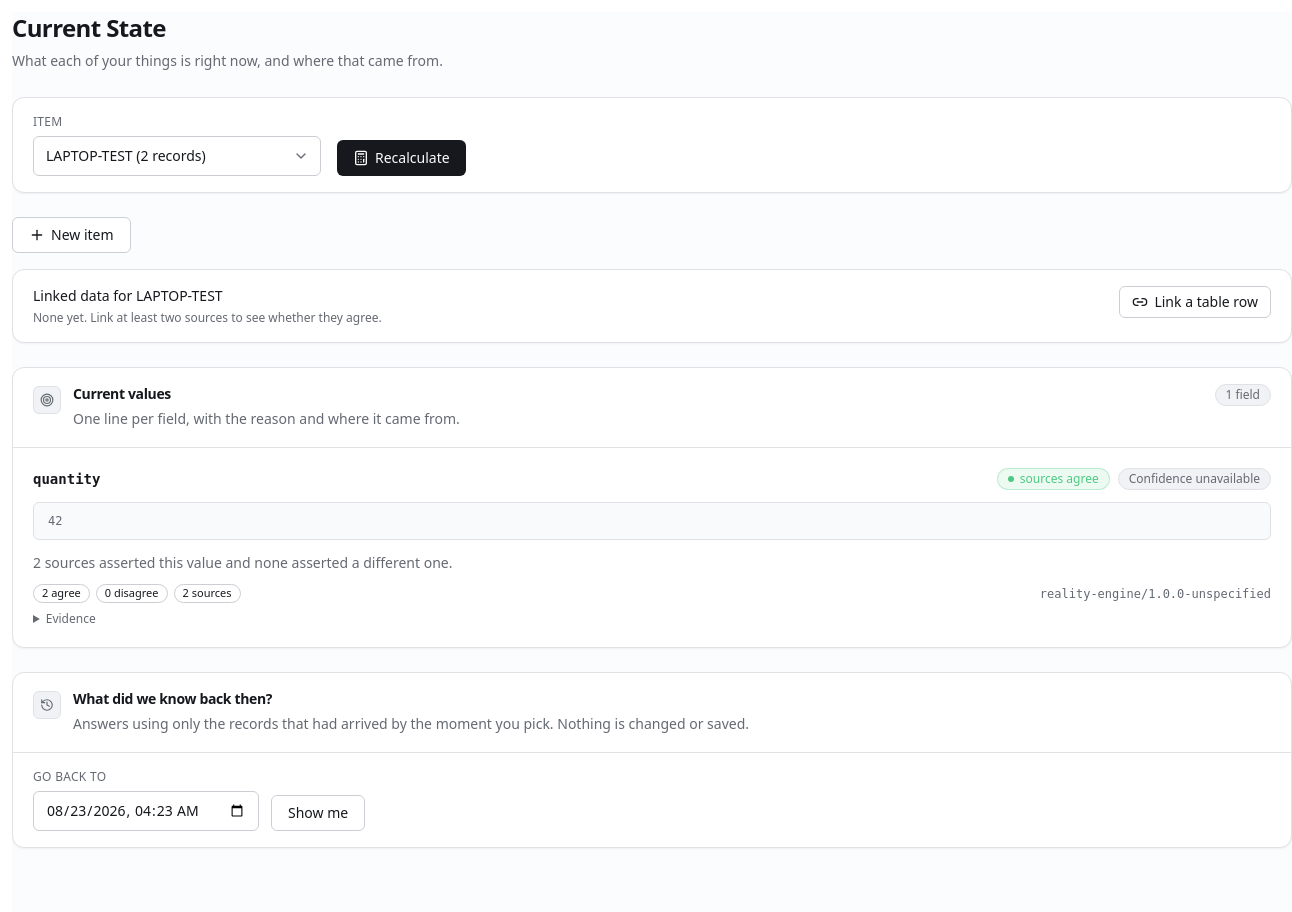
Test case: Entity setup › says what to do when a source has nothing to map yet
This screenshot has width=1292, height=912.
Expected: the dropdown labelled "Item" is shown, left=33, top=136, right=321, bottom=176
Click the button "Link a table row".
click(1195, 302)  # box left=1119, top=286, right=1271, bottom=318
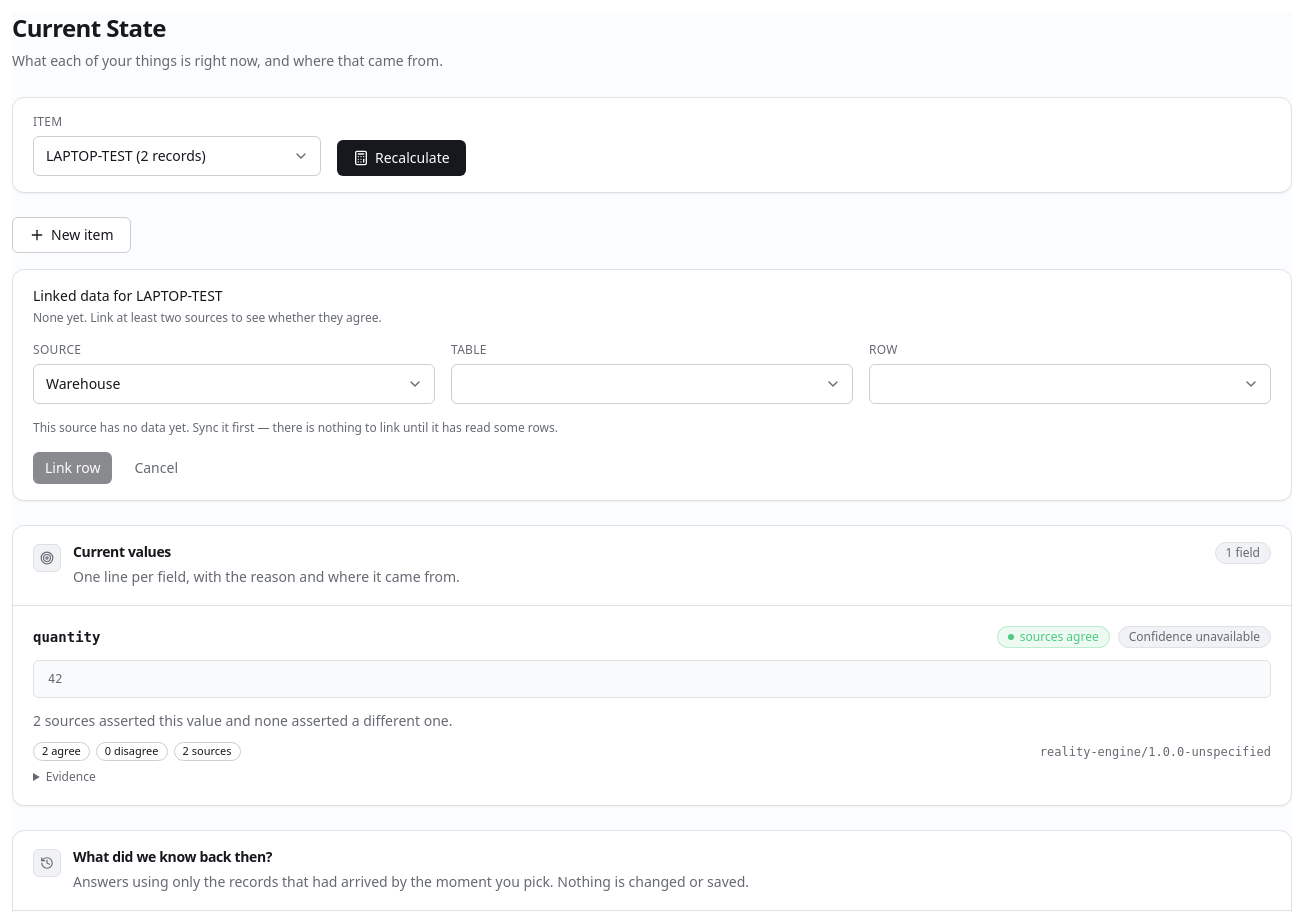
Expected: the text "Sync it first" is shown, left=33, top=419, right=558, bottom=436
